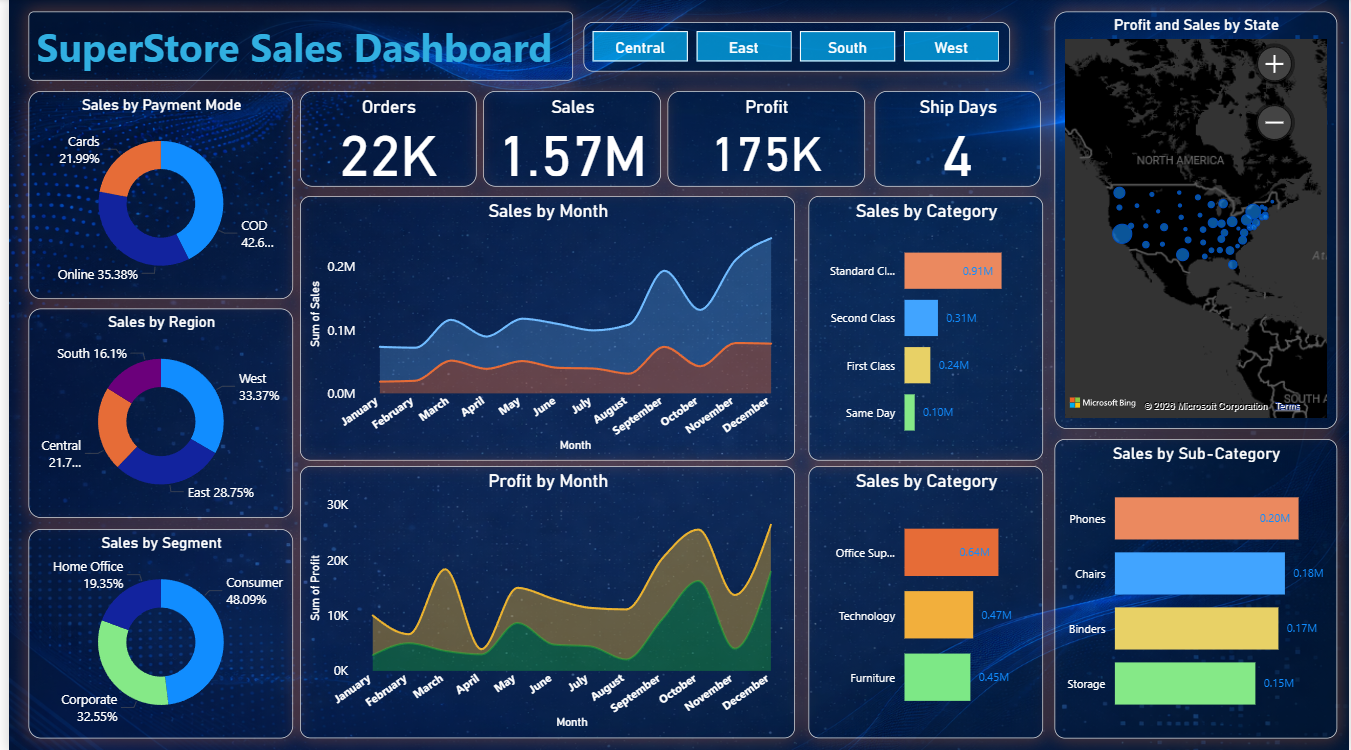

The dashboard page shown, as its layout file describes it:
{"tool":"powerbi","page":{"name":"Dashboard","canvas":[1280,720],"ordinal":0},"visuals":[{"type":"donutChart","title":"Sales by Payment Mode","fields":{"Y":["Sum(SuperStore_Sales_Dataset.Sales)"],"Category":["SuperStore_Sales_Dataset.Payment Mode"]},"box":[18.6,88.6,252.9,198.6],"z":0},{"type":"donutChart","title":"Sales by Region","fields":{"Y":["Sum(SuperStore_Sales_Dataset.Sales)"],"Category":["SuperStore_Sales_Dataset.Region"]},"box":[18.6,297.1,252.9,200],"z":1000},{"type":"donutChart","title":"Sales by Segment","fields":{"Category":["SuperStore_Sales_Dataset.Segment"],"Y":["Sum(SuperStore_Sales_Dataset.Sales)"]},"box":[18.6,507.1,252.9,200],"z":2000},{"type":"stackedAreaChart","title":"Sales by Month","fields":{"Category":["SuperStore_Sales_Dataset.Order Date.Variation.Date Hierarchy.Month","SuperStore_Sales_Dataset.Order Date.Variation.Date Hierarchy.Day"],"Y":["Sum(SuperStore_Sales_Dataset.Sales)"],"Series":["SuperStore_Sales_Dataset.Order Date.Variation.Date Hierarchy.Year"]},"box":[278.6,188.6,472.9,252.9],"z":3000},{"type":"stackedAreaChart","title":"Profit by Month","fields":{"Category":["SuperStore_Sales_Dataset.Order Date.Variation.Date Hierarchy.Month","SuperStore_Sales_Dataset.Order Date.Variation.Date Hierarchy.Day"],"Series":["SuperStore_Sales_Dataset.Order Date.Variation.Date Hierarchy.Year"],"Y":["Sum(SuperStore_Sales_Dataset.Profit)"]},"box":[278.6,447.1,472.9,260],"z":4000},{"type":"clusteredBarChart","title":"Sales by Category","fields":{"Category":["SuperStore_Sales_Dataset.Category"],"Y":["Sum(SuperStore_Sales_Dataset.Sales)"]},"box":[762.9,447.1,224.3,260],"z":5000},{"type":"clusteredBarChart","title":"Sales by Sub-Category","fields":{"Y":["Sum(SuperStore_Sales_Dataset.Sales)"],"Category":["SuperStore_Sales_Dataset.Sub-Category"]},"box":[998.6,421.4,270,285.7],"z":6000},{"type":"map","title":"Profit and Sales by State","fields":{"Category":["SuperStore_Sales_Dataset.State"],"Size":["Sum(SuperStore_Sales_Dataset.Sales)"]},"box":[998.6,12.9,270,398.6],"z":7000},{"type":"clusteredBarChart","title":"Sales by Category","fields":{"Category":["SuperStore_Sales_Dataset.Ship Mode"],"Y":["Sum(SuperStore_Sales_Dataset.Sales)"]},"box":[762.9,188.6,224.3,252.9],"z":8000},{"type":"textbox","box":[18.6,12.9,520,65.7],"z":9000},{"type":"advancedSlicerVisual","fields":{"Values":["SuperStore_Sales_Dataset.Region"]},"box":[548.6,22.9,407.1,47.1],"z":10000},{"type":"card","title":"Ship Days","fields":{"Values":["Avg(SuperStore_Sales_Dataset.AvgDelivery)"]},"box":[827.1,88.6,158.6,91.4],"z":11000},{"type":"card","title":"Profit","fields":{"Values":["Sum(SuperStore_Sales_Dataset.Profit)"]},"box":[628.6,88.6,188.6,91.4],"z":12000},{"type":"card","title":"Sales","fields":{"Values":["Sum(SuperStore_Sales_Dataset.Sales)"]},"box":[452.9,88.6,170,91.4],"z":13000},{"type":"card","title":"Orders","fields":{"Values":["Sum(SuperStore_Sales_Dataset.Quantity)"]},"box":[278.6,88.6,168.6,91.4],"z":14000}]}

Visuals, with their boxes in screenshot pixels (x1, y1, x2, y2), scaled from the page's 1280x720 canvas onto the 1351x750 screenshot:
"Sales by Payment Mode" donutChart: Rect(20, 92, 287, 299)
"Sales by Region" donutChart: Rect(20, 309, 287, 518)
"Sales by Segment" donutChart: Rect(20, 528, 287, 737)
"Sales by Month" stackedAreaChart: Rect(294, 196, 793, 460)
"Profit by Month" stackedAreaChart: Rect(294, 466, 793, 737)
"Sales by Category" clusteredBarChart: Rect(805, 466, 1042, 737)
"Sales by Sub-Category" clusteredBarChart: Rect(1054, 439, 1339, 737)
"Profit and Sales by State" map: Rect(1054, 13, 1339, 429)
"Sales by Category" clusteredBarChart: Rect(805, 196, 1042, 460)
textbox: Rect(20, 13, 568, 82)
advancedSlicerVisual - SuperStore_Sales_Dataset.Region: Rect(579, 24, 1009, 73)
"Ship Days" card: Rect(873, 92, 1040, 188)
"Profit" card: Rect(663, 92, 863, 188)
"Sales" card: Rect(478, 92, 657, 188)
"Orders" card: Rect(294, 92, 472, 188)
